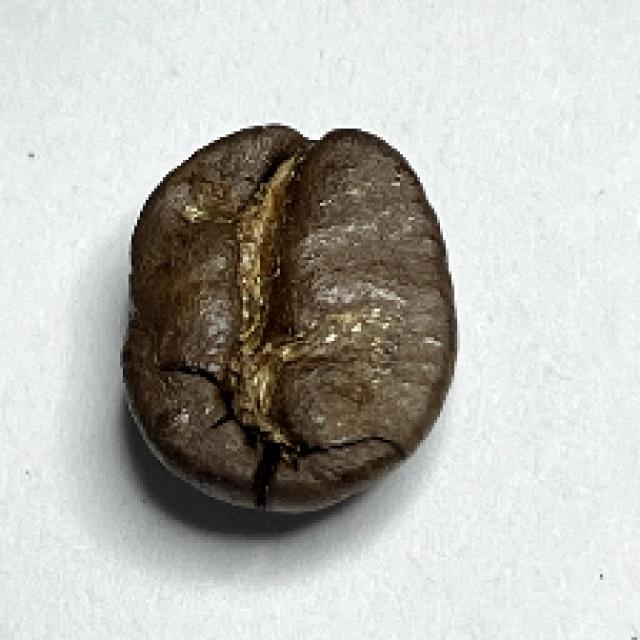bean: (124, 121, 457, 517)
